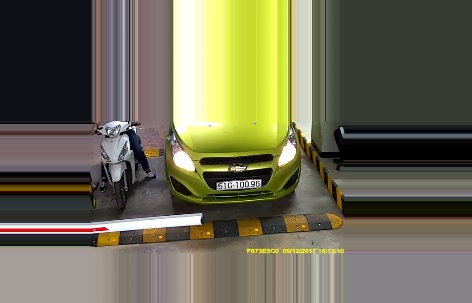plate: (215, 178, 262, 190)
